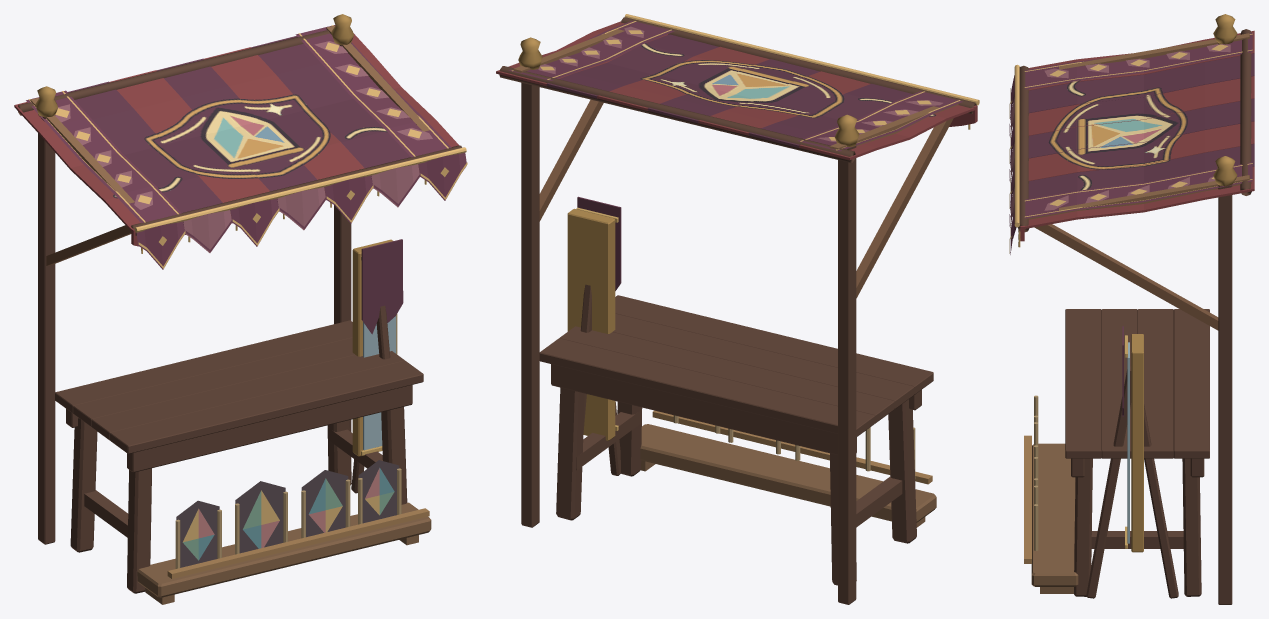
File: stall_glazier.glb
3 views of the same model, side by side, from view 1: azimuth 30°, elevation 25°; view 2: azimuth 150°, elevation 25°; view 3: azimuth 270°, elevation 25° (orthographic). The views are drawn at different scales.
Visible parts, largest first — view 1: stall_glazier; view 2: stall_glazier; view 3: stall_glazier.
Boxes of the visible parts, bbox=[...] form: stall_glazier: bbox=[14, 14, 467, 604]; stall_glazier: bbox=[496, 14, 979, 604]; stall_glazier: bbox=[1009, 14, 1254, 604].
Size of the model in its own units: 1.9 by 2.5 by 1.24.
Materials: 12 (1 with a texture image).
